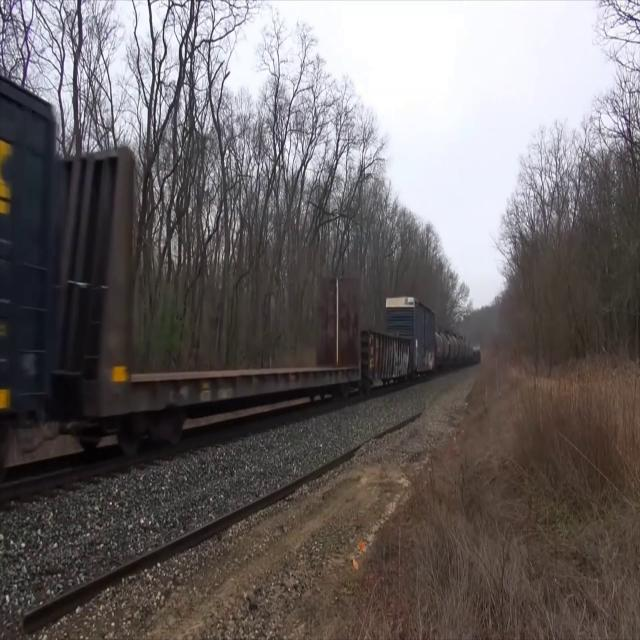boxcar: (384, 292, 436, 381)
flatcar_bulkhead: (63, 138, 364, 467)
gondola: (361, 326, 413, 393)
